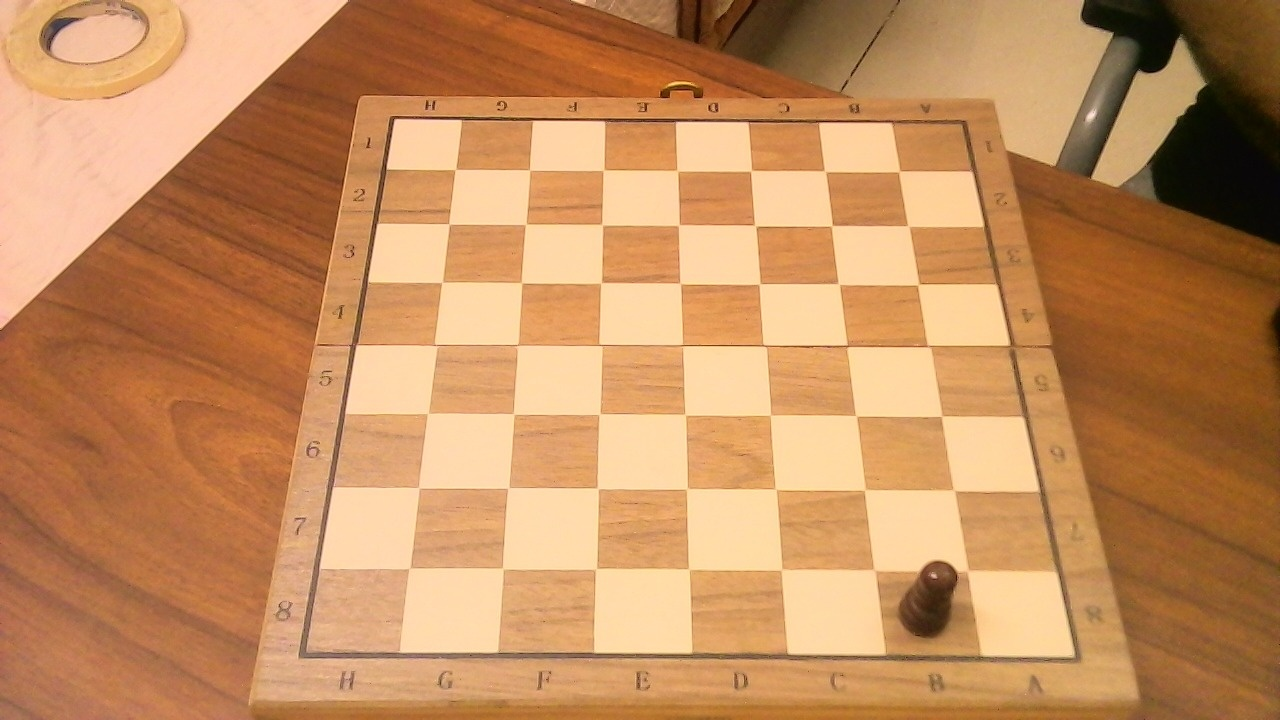p: (893, 547, 970, 640)
